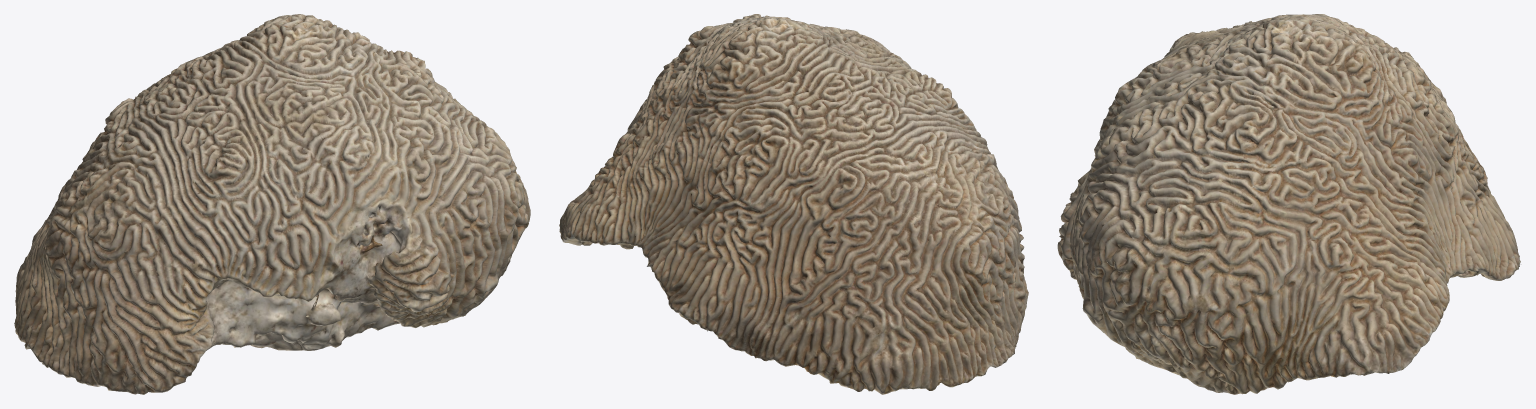
File: usnm_1174917-100k-2048.gltf
3 views of the same model, side by side, from view 1: azimuth 30°, elevation 25°; view 2: azimuth 150°, elevation 25°; view 3: azimuth 270°, elevation 25° (orthographic). The views are drawn at different scales.
Bounding box in the file's own units: 0.4028 × 0.257 × 0.3412.
1 material, 1 textured.
